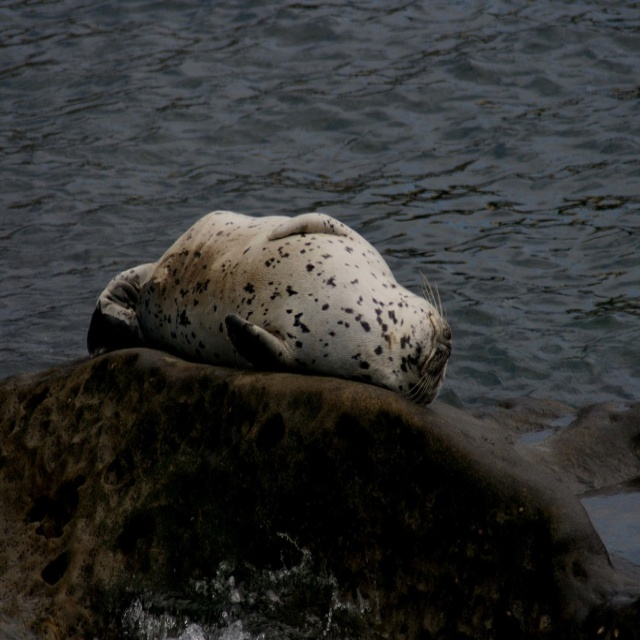Harbor seal: (87, 210, 454, 408)
